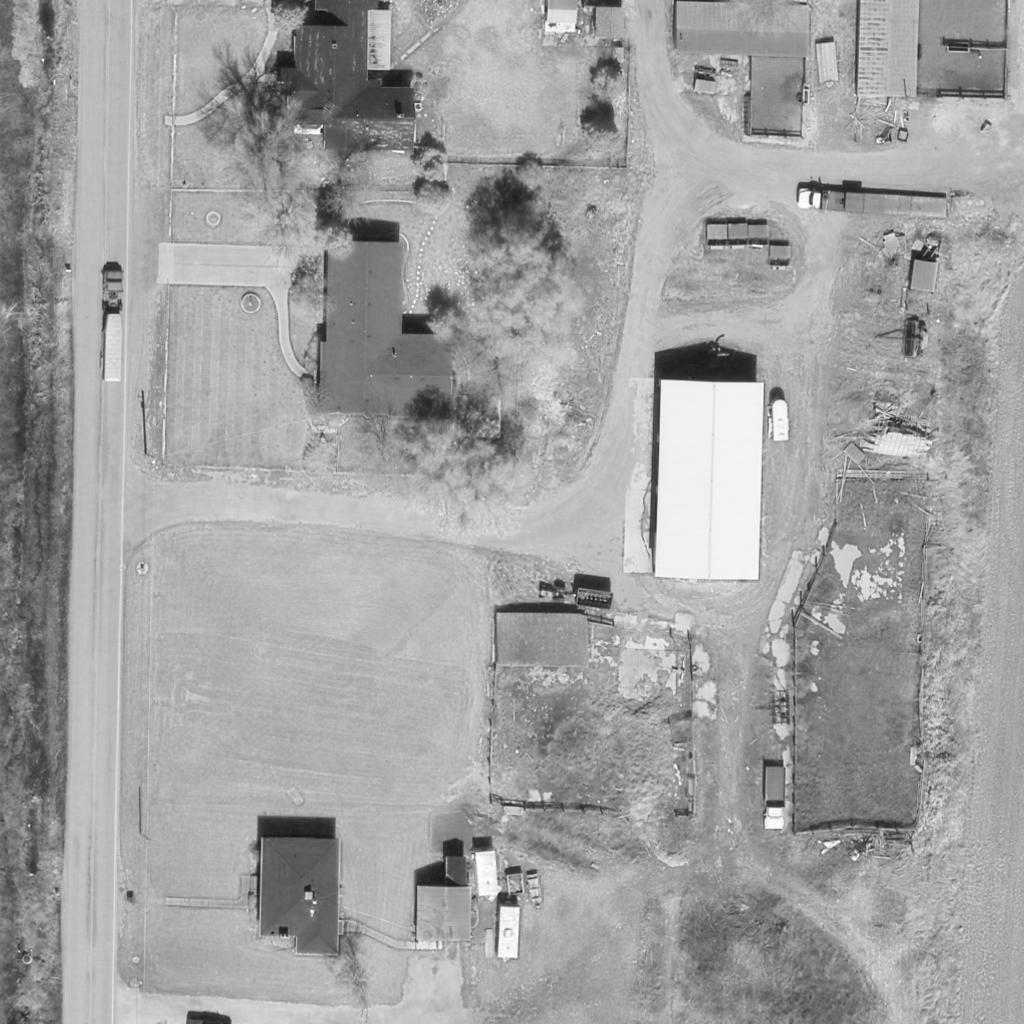vehicle: (798, 188, 948, 218), (102, 271, 126, 383), (765, 766, 787, 830), (471, 850, 499, 898), (497, 907, 519, 959), (535, 580, 569, 604), (526, 875, 544, 909)
